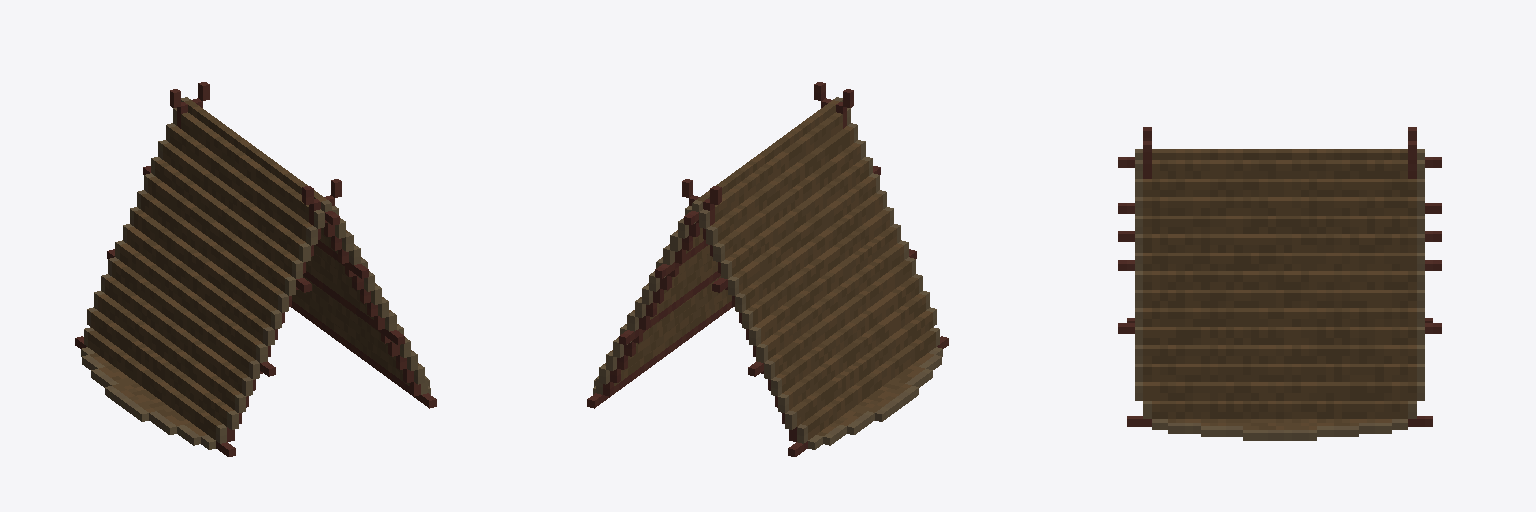
3 views of the same model, side by side, from view 1: azimuth 30°, elevation 25°; view 2: azimuth 150°, elevation 25°; view 3: azimuth 270°, elevation 25° (orthographic).
Visible parts, largest first — view 1: object 1; view 2: object 1; view 3: object 1.
Boxes of the visible parts, x1,y1,x2,y2 form: object 1: [75, 82, 436, 456]; object 1: [587, 82, 948, 456]; object 1: [1118, 127, 1441, 440].
Bounding box in the file's own units: 3.7 × 3.2 × 3.9.
Materials: 1 (1 with a texture image).